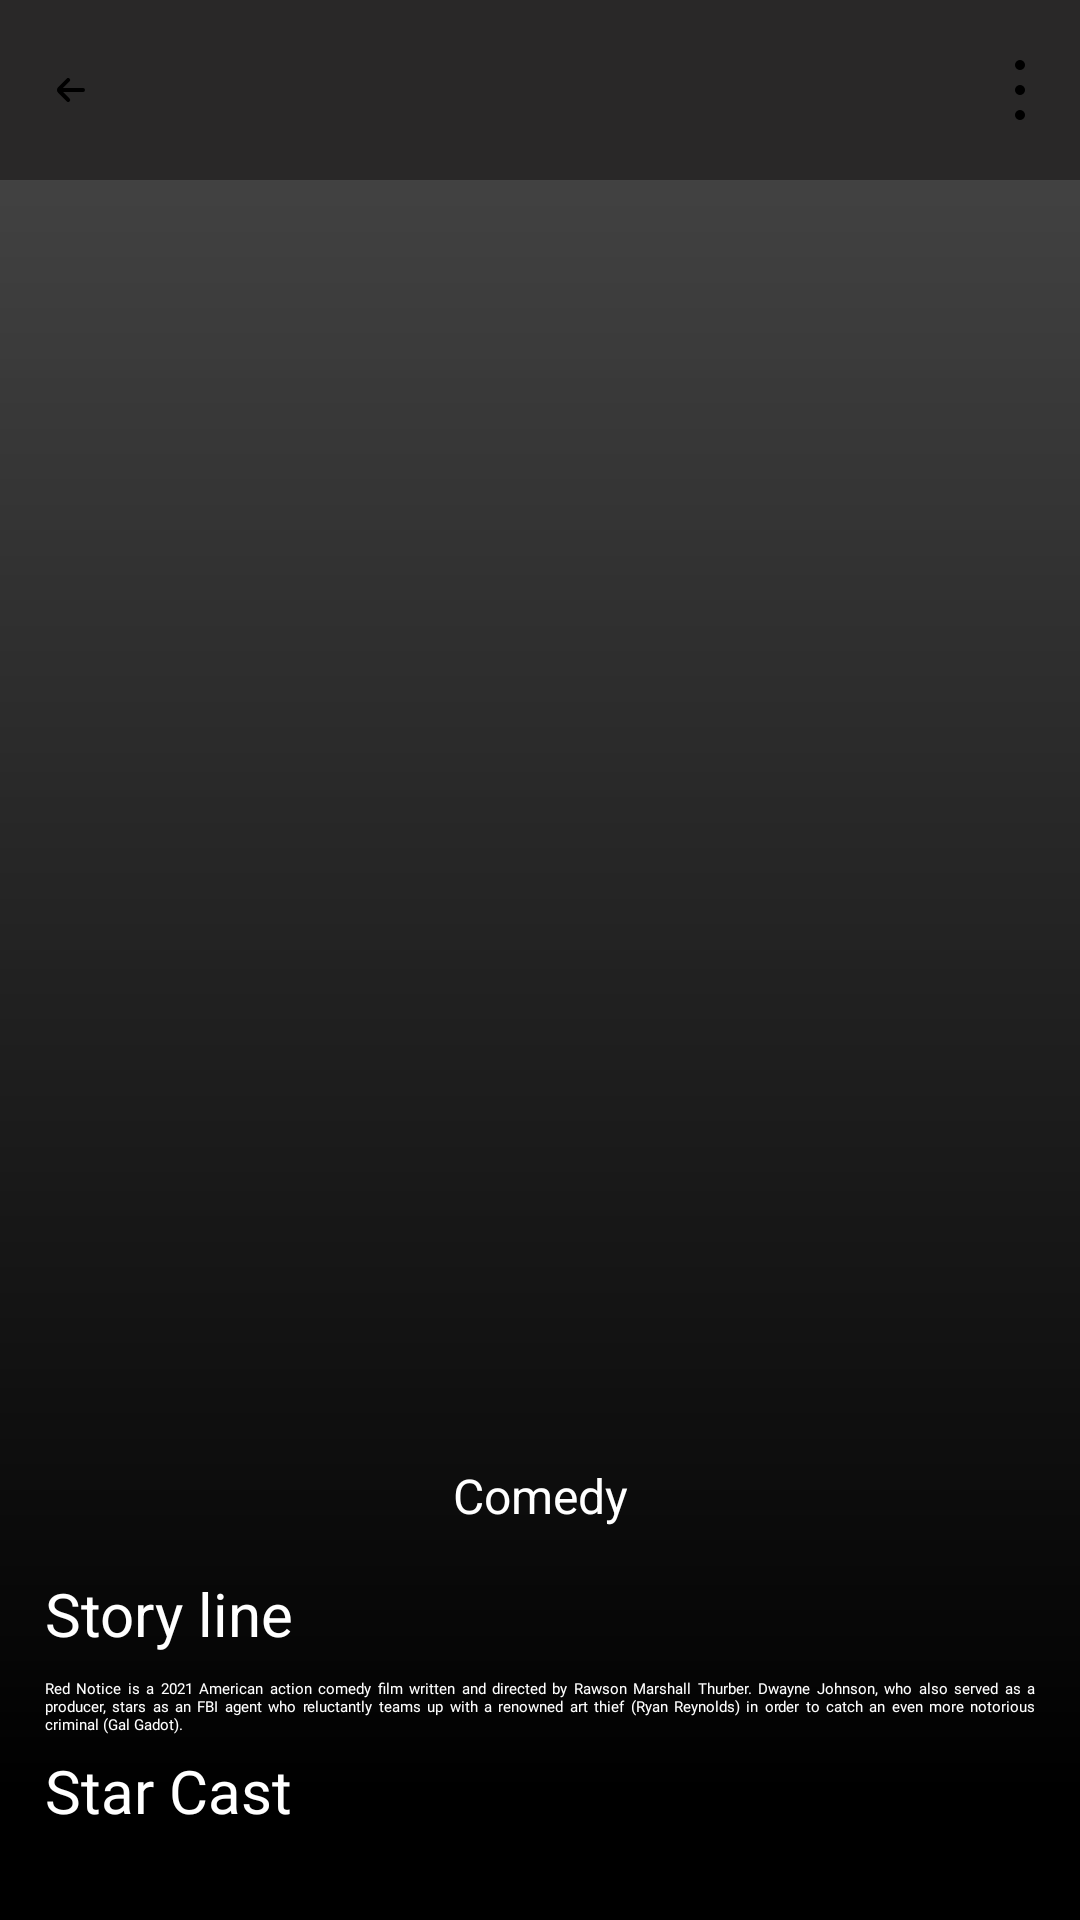

Point at icon controls on the screen. Image size 1080w x 1920h, points as (x,y).
dots: (1020,90)
left arrow: (71,90)
